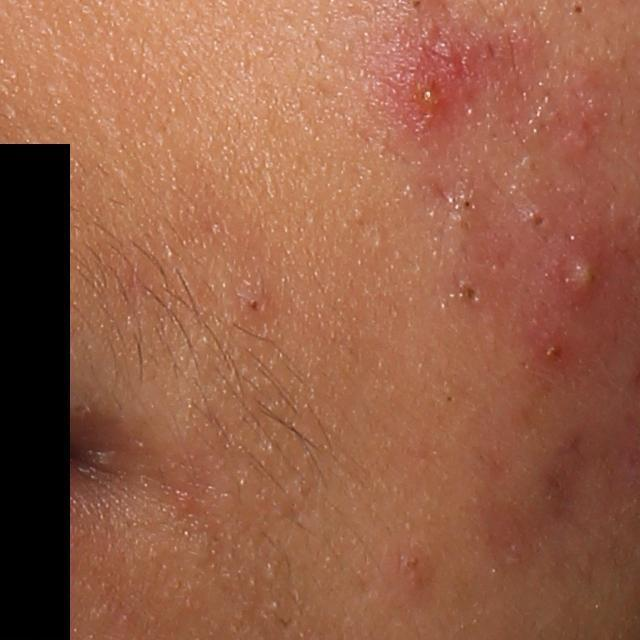comedo: (455, 193, 483, 223), (524, 210, 549, 238), (246, 295, 266, 322), (458, 283, 478, 308)
pustule: (560, 247, 599, 300)
